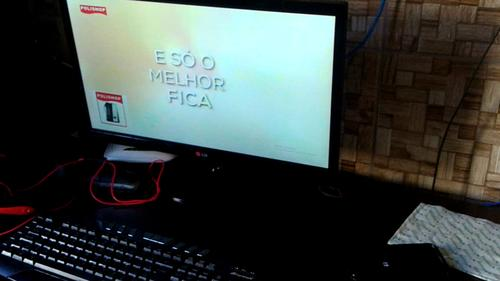Polishop #1: (94, 89, 127, 127)
